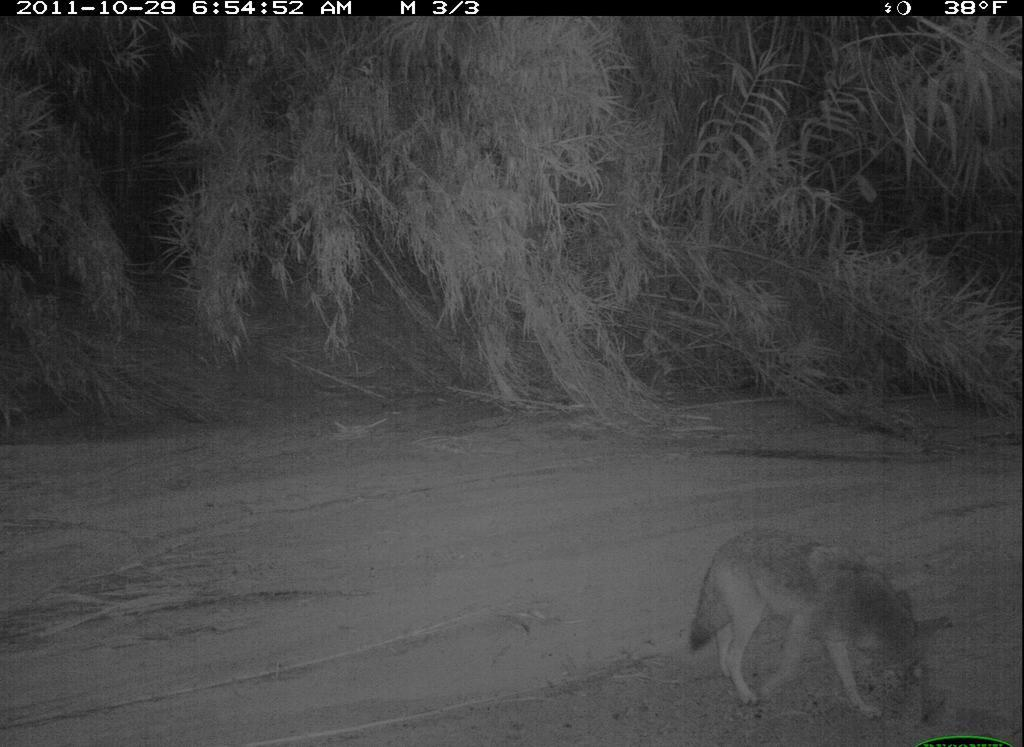coyote: (689, 519, 958, 722)
